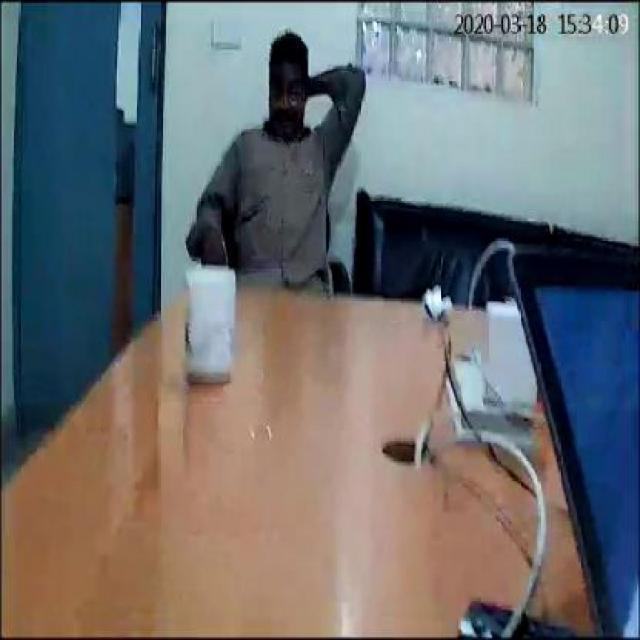spill: (130, 398, 278, 486)
